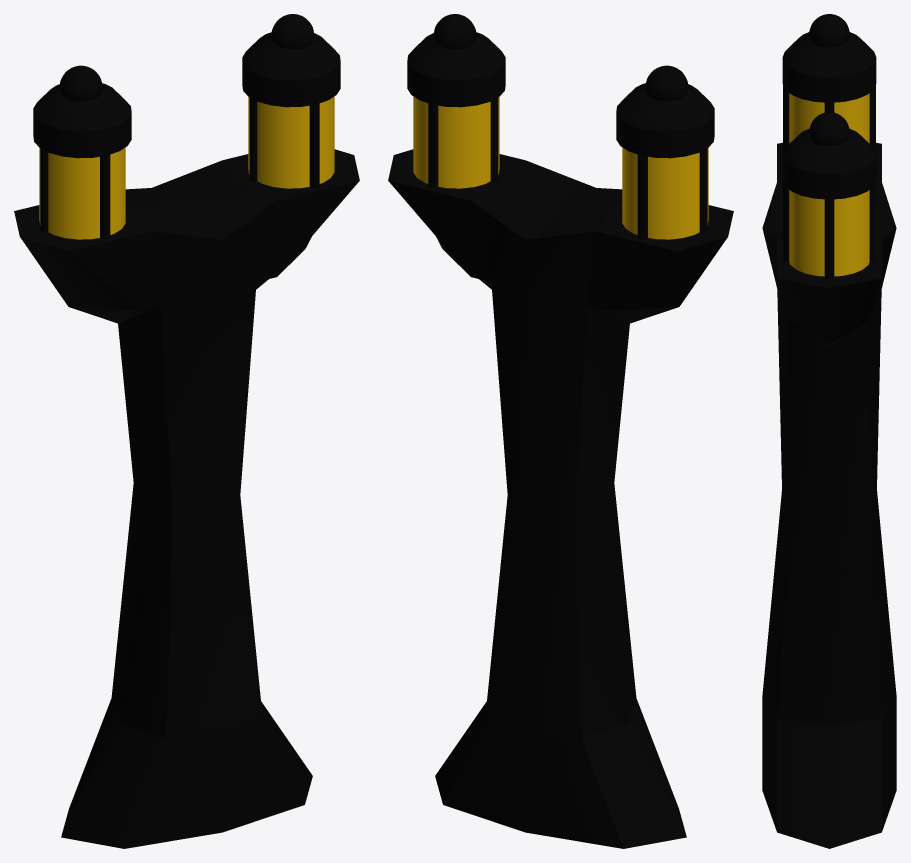
File: LIAN Lamppost.fbx
3 views of the same model, side by side, from view 1: azimuth 30°, elevation 25°; view 2: azimuth 150°, elevation 25°; view 3: azimuth 270°, elevation 25° (orthographic). The views are drawn at different scales.
Visible parts, largest first — view 1: pCube2; view 2: pCube2; view 3: pCube2.
Part boxes in pixels (x1=…): pCube2: x1=14, y1=14, x2=359, y2=848; pCube2: x1=388, y1=14, x2=733, y2=848; pCube2: x1=762, y1=14, x2=896, y2=848.
Bounding box in the file's own units: 25.07 × 54.78 × 9.18.
